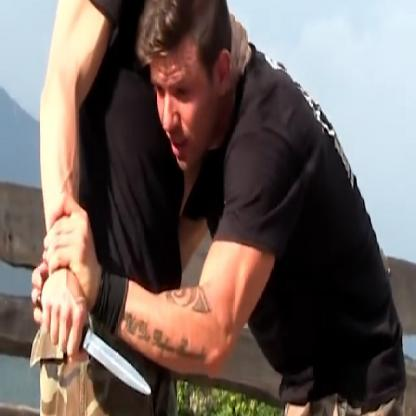knife: (36, 275, 154, 408)
